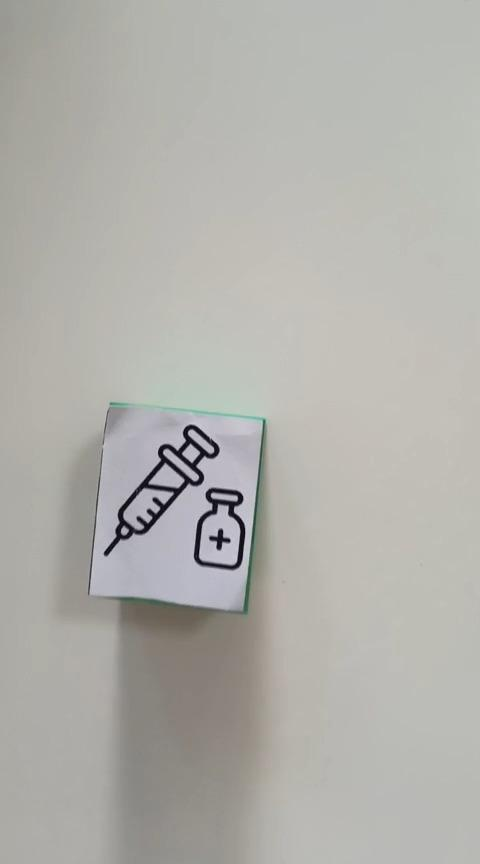antiseptic cream: (86, 399, 266, 614)
